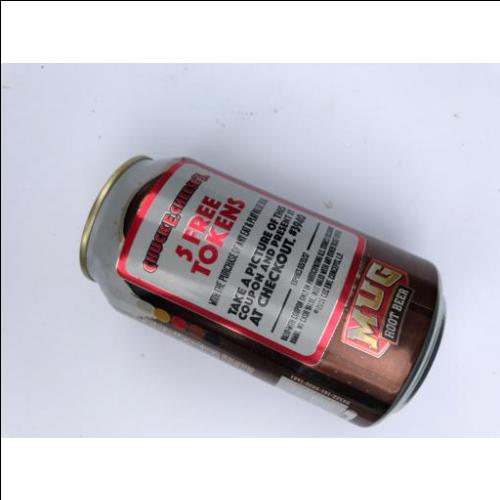metal: (81, 158, 447, 429)
